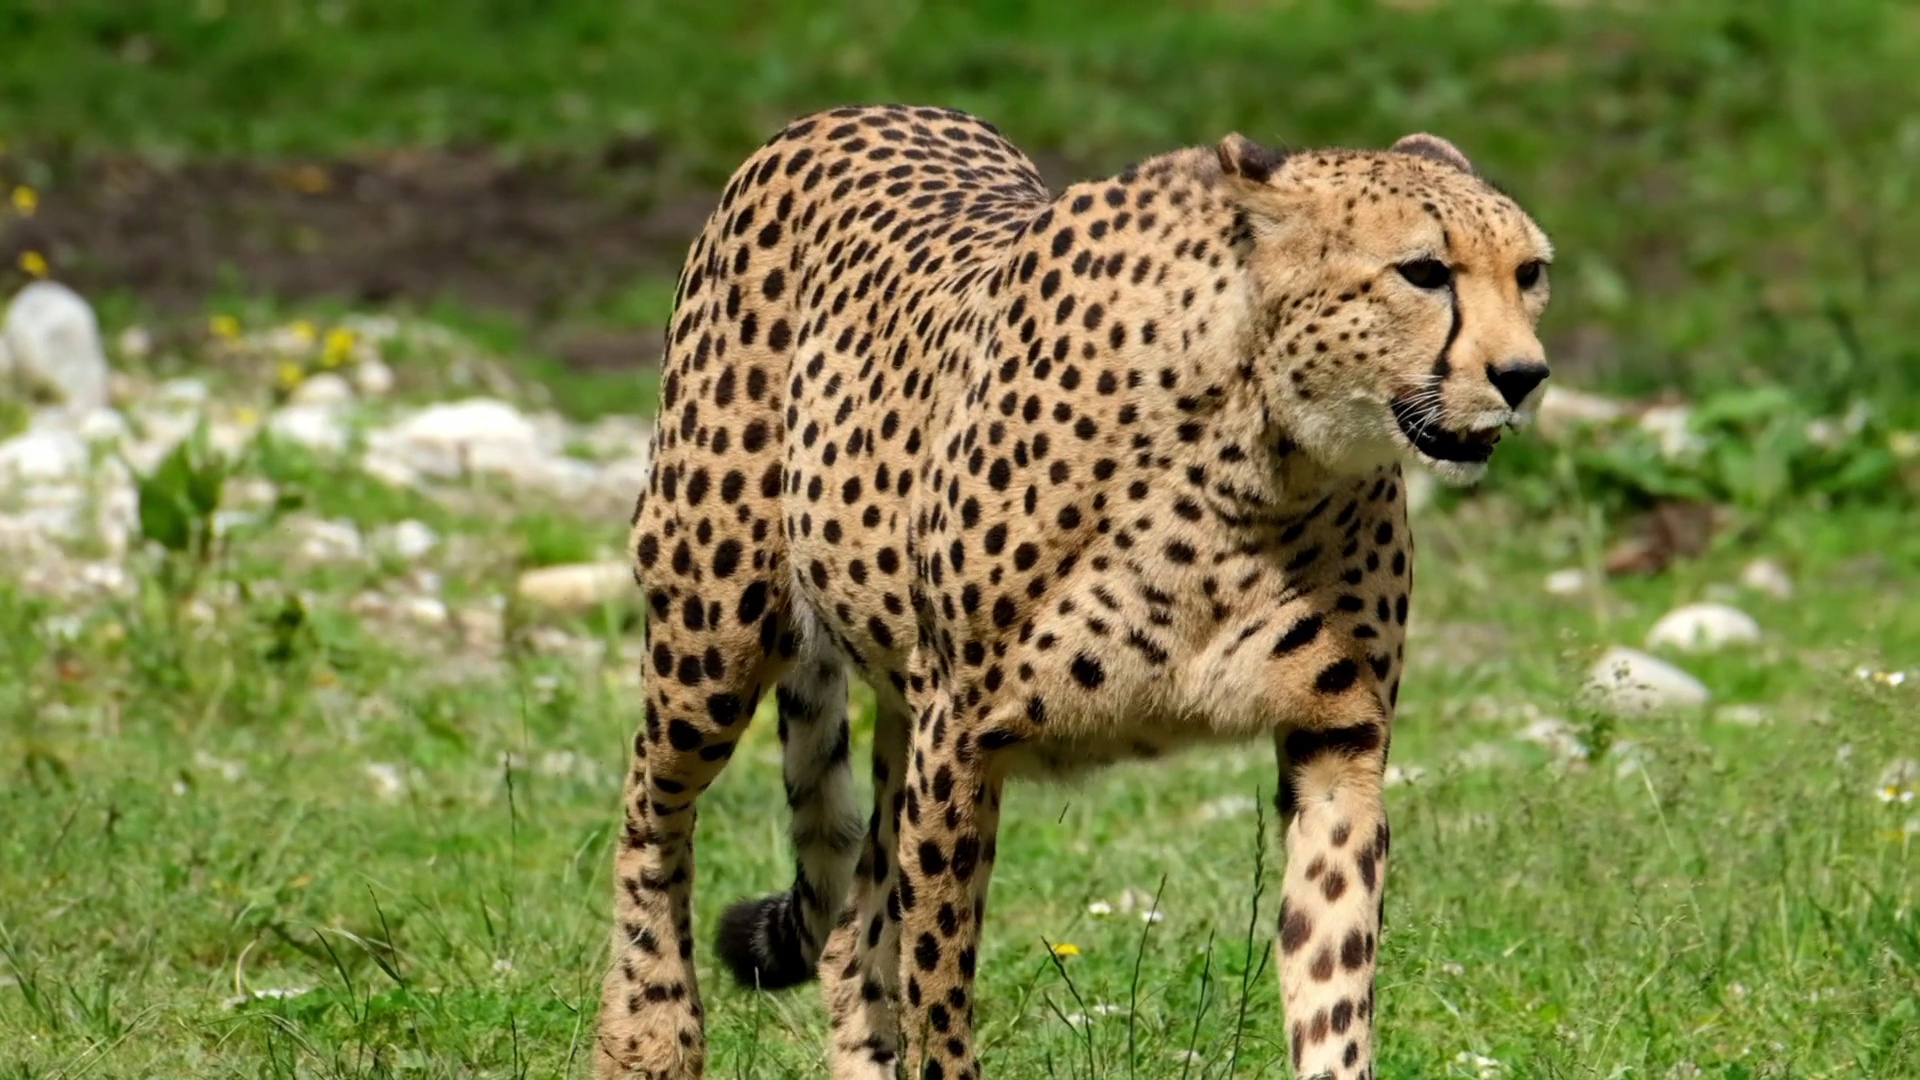Cheetah: (589, 98, 1563, 1080)
